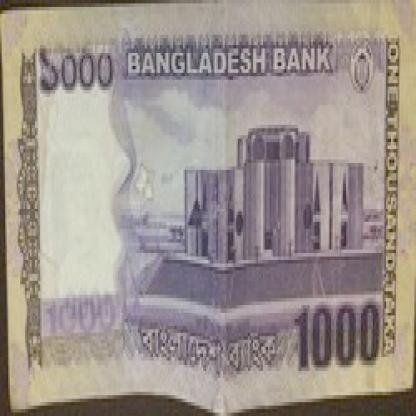One Thousand taka: (290, 302, 384, 371), (36, 48, 116, 94), (43, 298, 122, 333)
